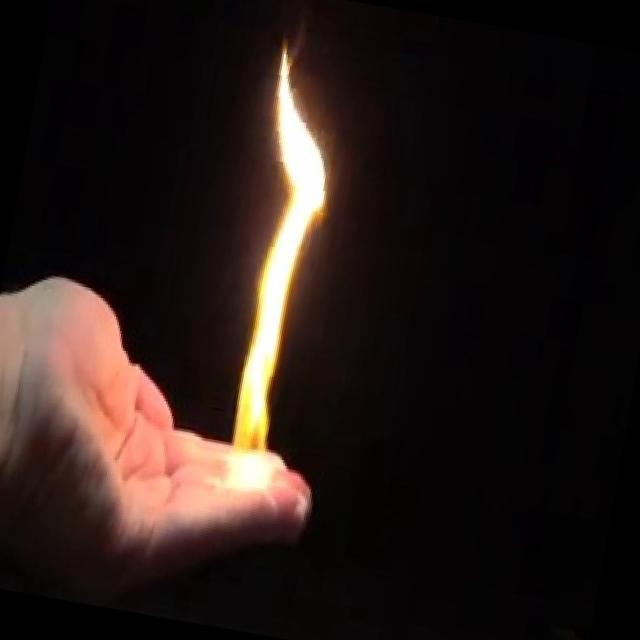Fire: (192, 31, 354, 508)
